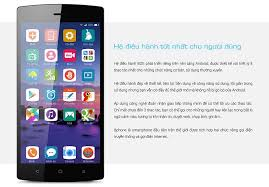bphone: (13, 3, 108, 184)
